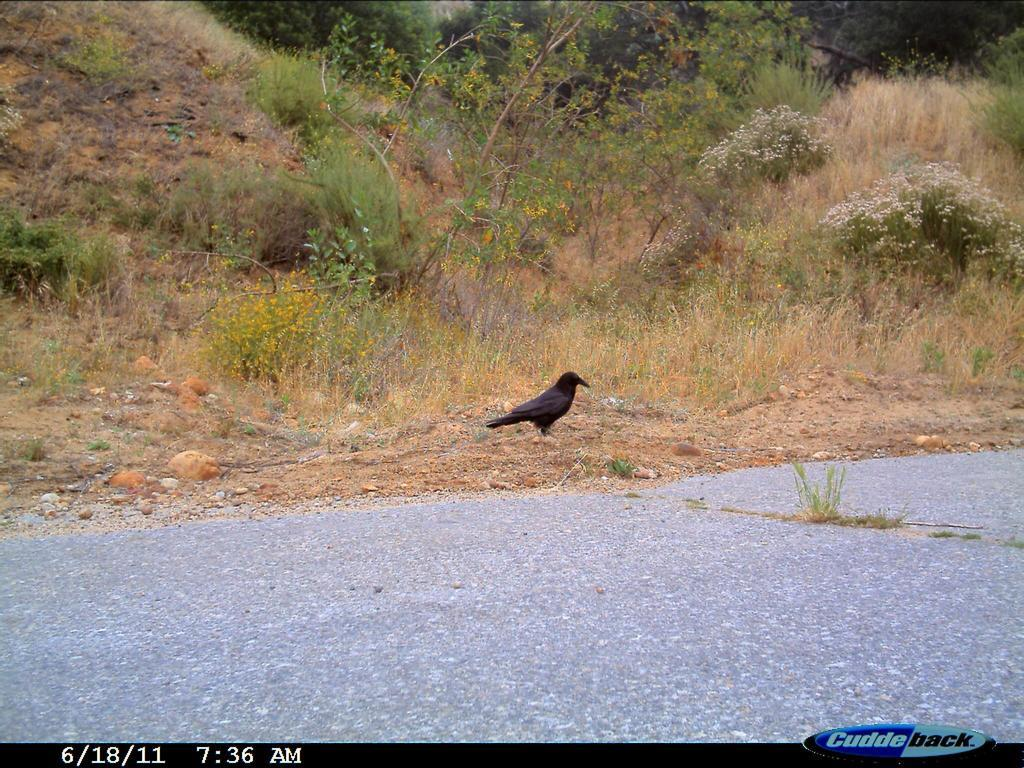bird: (482, 369, 596, 448)
